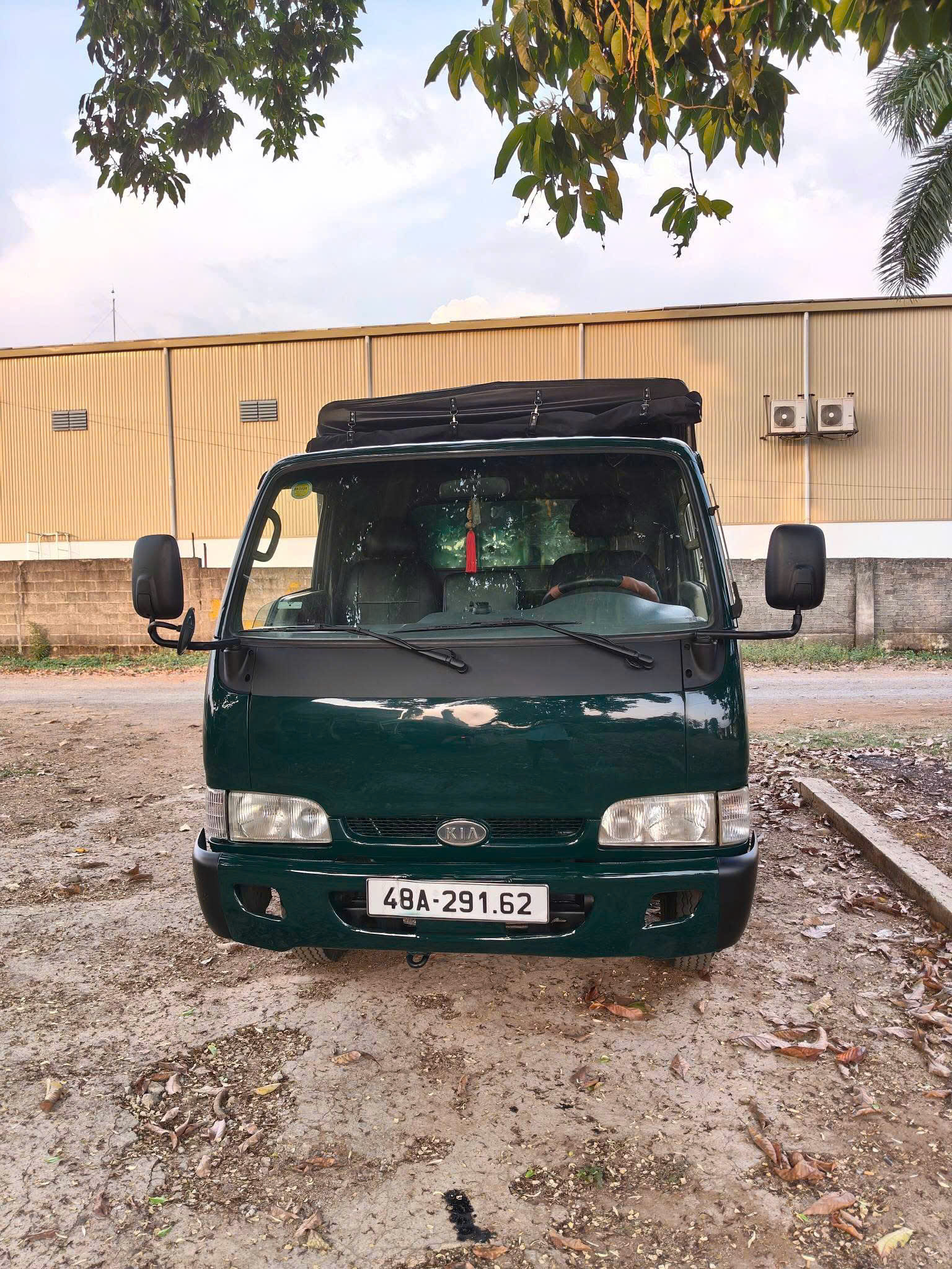Bien-so: (366, 878, 545, 925)
